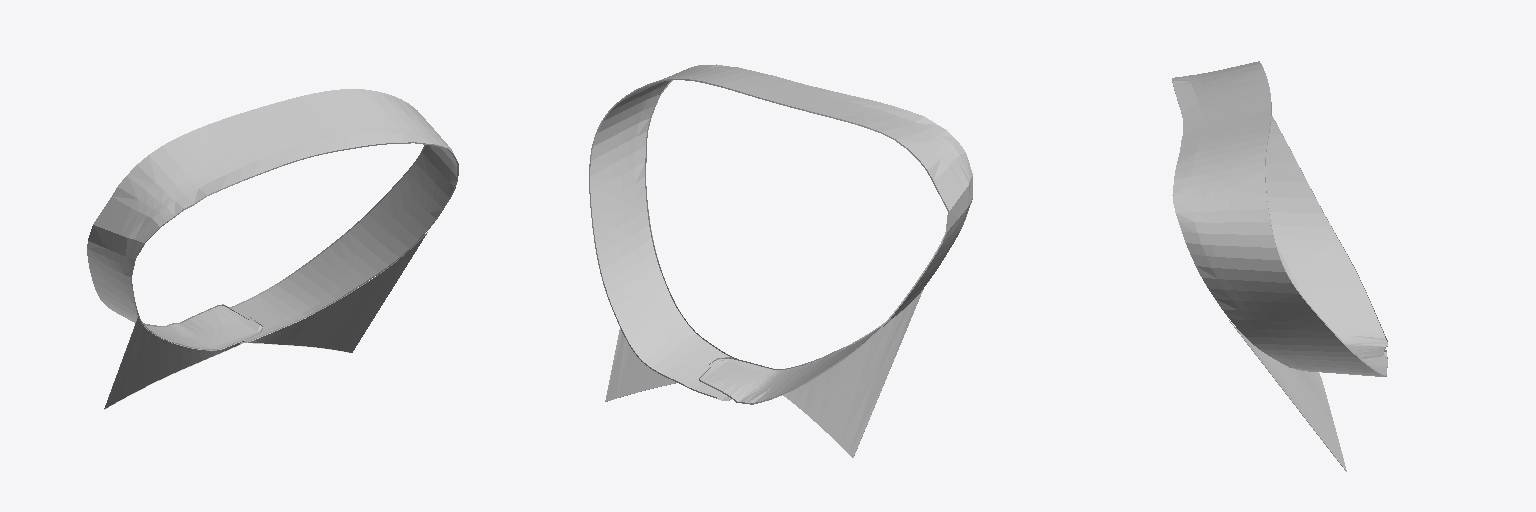
3 views of the same model, side by side, from view 1: azimuth 30°, elevation 25°; view 2: azimuth 150°, elevation 25°; view 3: azimuth 270°, elevation 25° (orthographic).
Parts seen in each view (by area): view 1: inner_collar_out, kiri_wing_collar_2, kanan_wing_collar; view 2: inner_collar_out, kanan_wing_collar, kiri_wing_collar_2; view 3: inner_collar_out, kiri_wing_collar_2.
Boxes of the visible parts, x1,y1,x2,y2 form: inner_collar_out: [87, 89, 458, 350]; kiri_wing_collar_2: [247, 232, 427, 352]; kanan_wing_collar: [104, 317, 244, 409]; inner_collar_out: [589, 64, 972, 404]; kanan_wing_collar: [753, 289, 923, 457]; kiri_wing_collar_2: [605, 209, 731, 401]; inner_collar_out: [1172, 61, 1387, 376]; kiri_wing_collar_2: [1229, 320, 1346, 471].
Bounding box in the file's own units: 16.2 × 13.7 × 8.73.